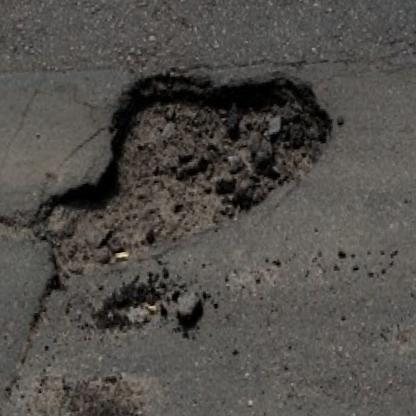pothole: (21, 51, 351, 286)
